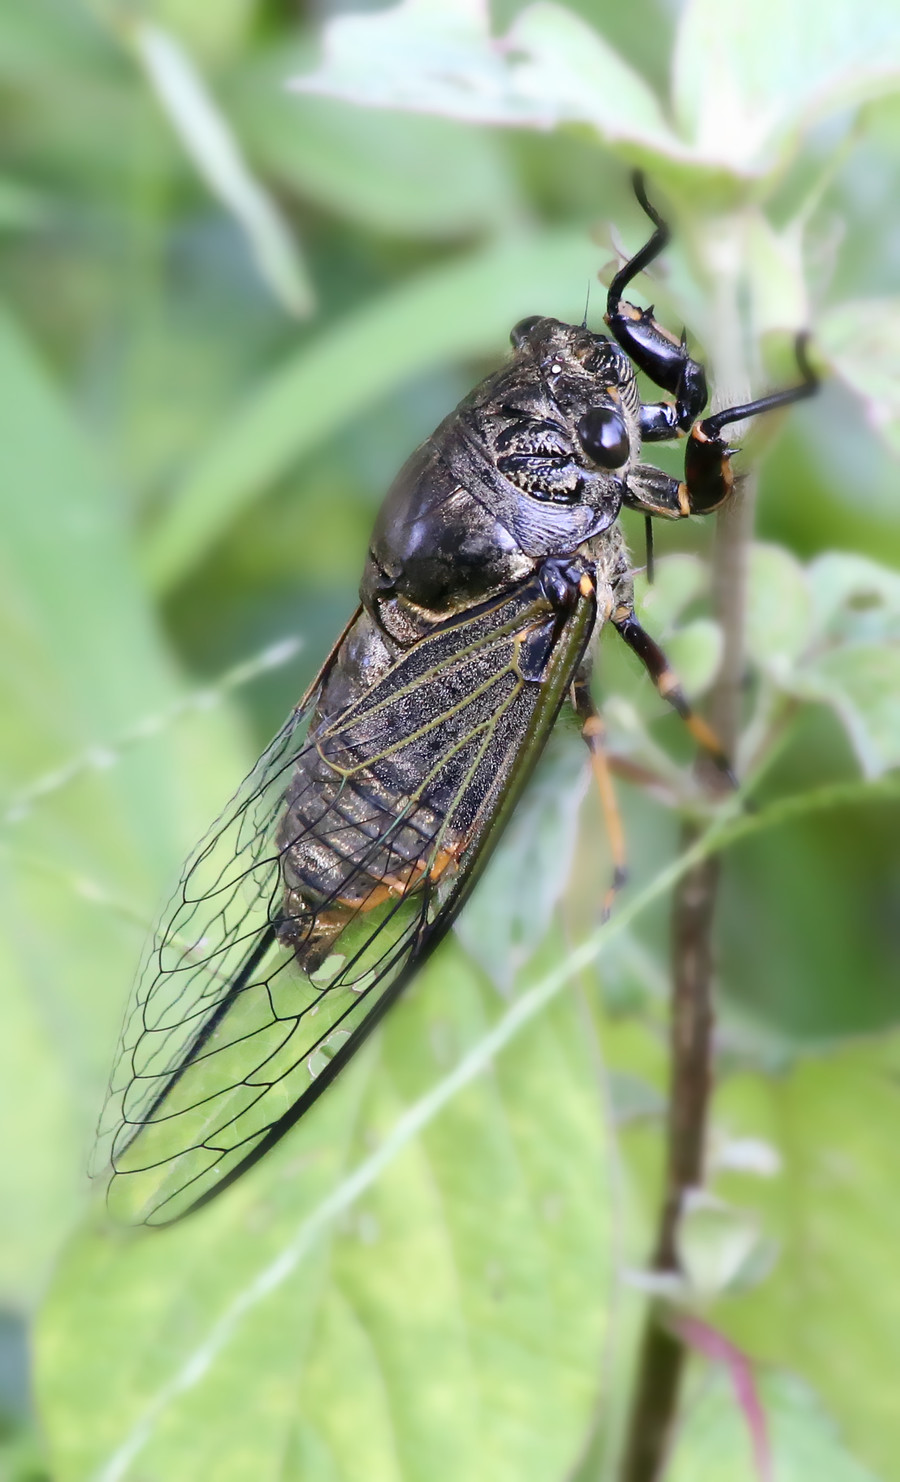chan: (92, 259, 749, 1225)
